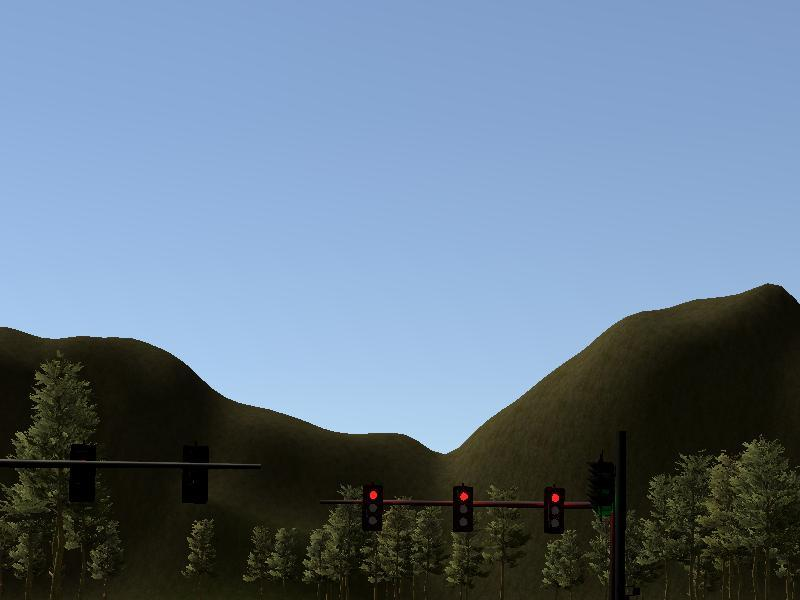Red: (543, 488, 566, 533), (452, 485, 473, 534), (362, 486, 384, 531)
